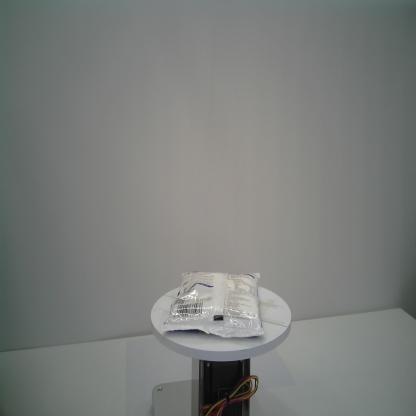Seasoner: (162, 270, 264, 339)
